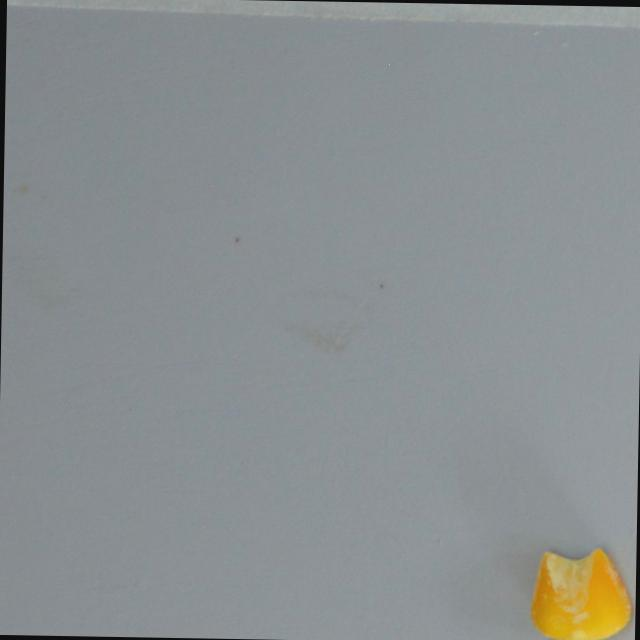pelicula: (528, 546, 633, 640)
